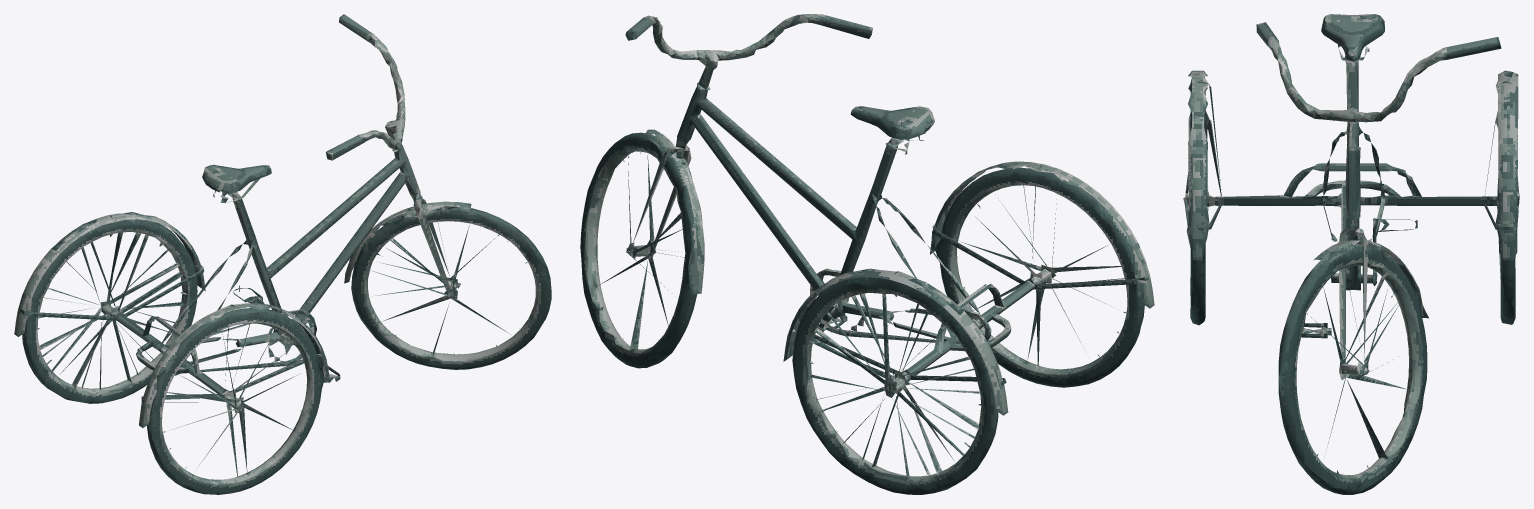
File: bicycle.glb
3 renders of one model, left to right at view 1: azimuth 30°, elevation 25°; view 2: azimuth 150°, elevation 25°; view 3: azimuth 270°, elevation 25°, orthographic. The views are drawn at different scales.
Visible parts, largest first — view 1: mesh; view 2: mesh; view 3: mesh.
Part boxes in pixels (left/top/right/bottom): mesh: left=14, top=14, right=551, bottom=494; mesh: left=580, top=14, right=1154, bottom=494; mesh: left=1183, top=14, right=1519, bottom=494.
Size of the model in its own units: 1.47 by 1.05 by 0.7692.
1 material, 1 textured.
